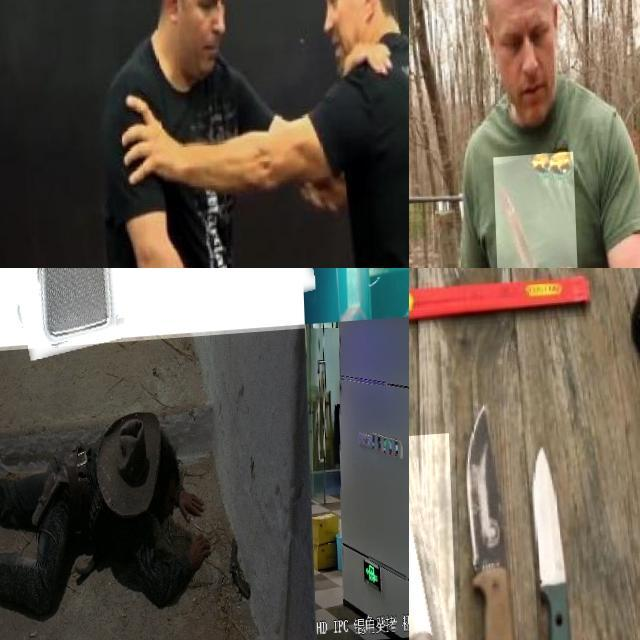-: (452, 394, 519, 624), (409, 437, 473, 640), (525, 434, 576, 626), (491, 156, 577, 268)
gun-knife-thesis - v11 Yolov5 augmented: (0, 268, 302, 429), (221, 528, 251, 618)
